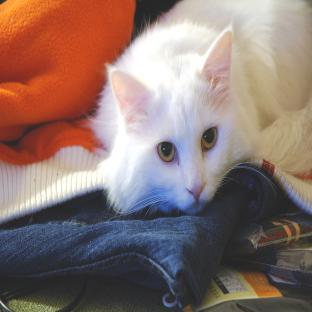Animal: (90, 0, 312, 214)
